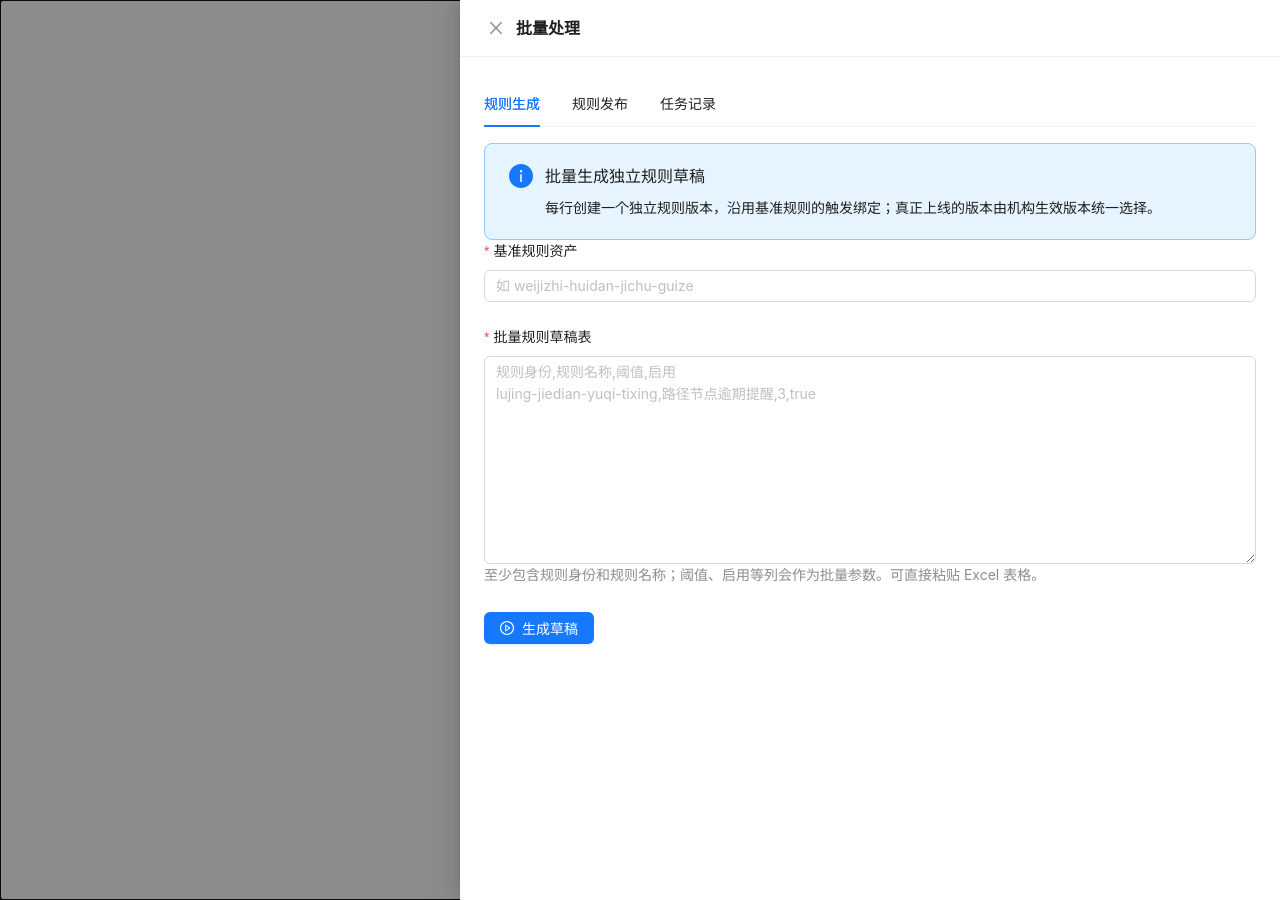
Test: AuthoringBatchDrawer › uses hospital-facing rule identities in batch placeholders
Expected: the field with placeholder "如 weijizhi-huidan-jichu-guize" is shown, [484, 270, 1256, 302]
Expected: the text box with placeholder "规则身份,规则名称,阈值,启用 lujing-jiedian-yuqi-tixing,路径节点逾期提醒,3,true" is shown, [484, 356, 1256, 564]
What coordinates should you click on to do the following:
click the tab "规则发布"
I would click on:
 (600, 104)
Its box is [572, 93, 628, 115].
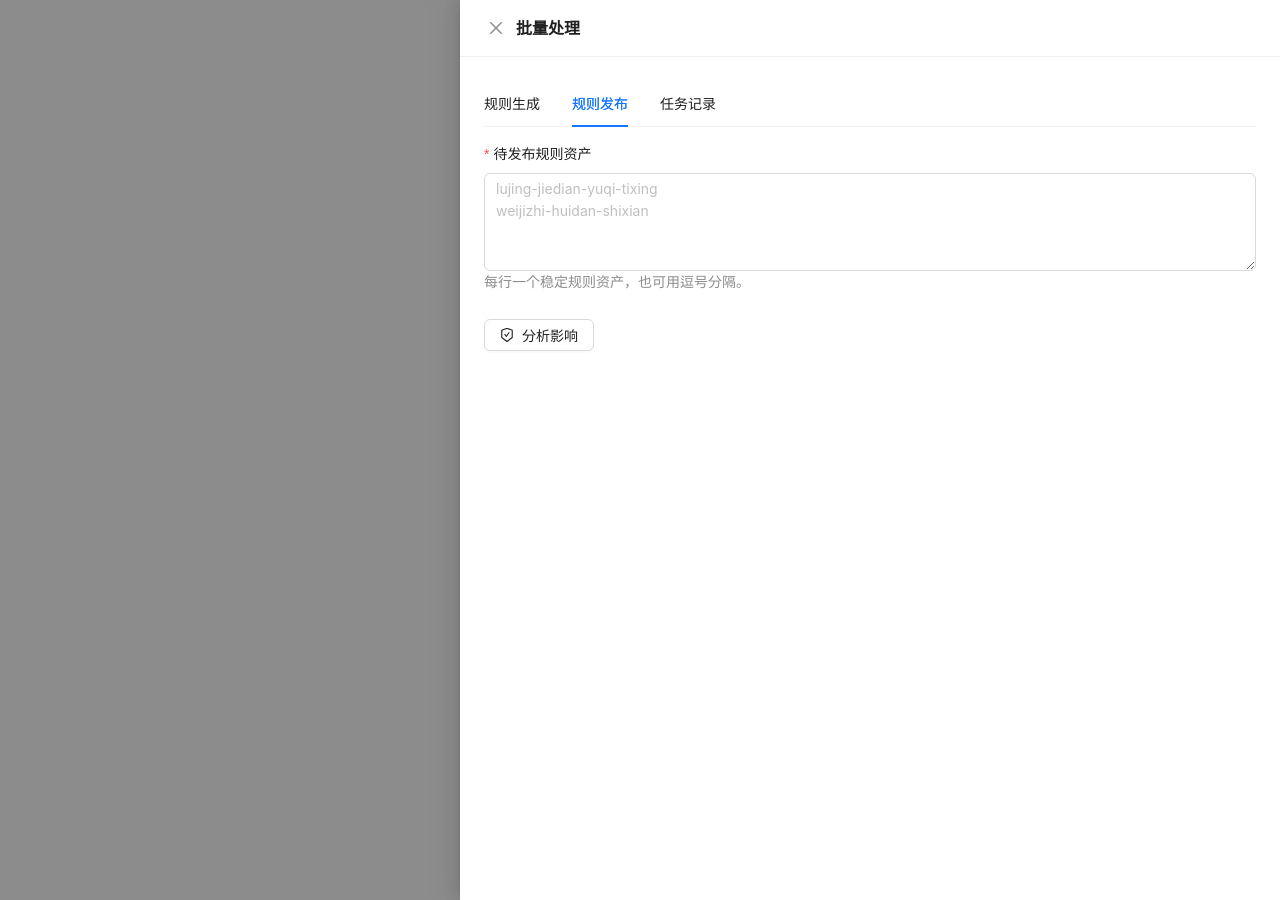
Expected: the text box with placeholder "lujing-jiedian-yuqi-tixing weijizhi-huidan-shixian" is shown, [484, 173, 1256, 271]
